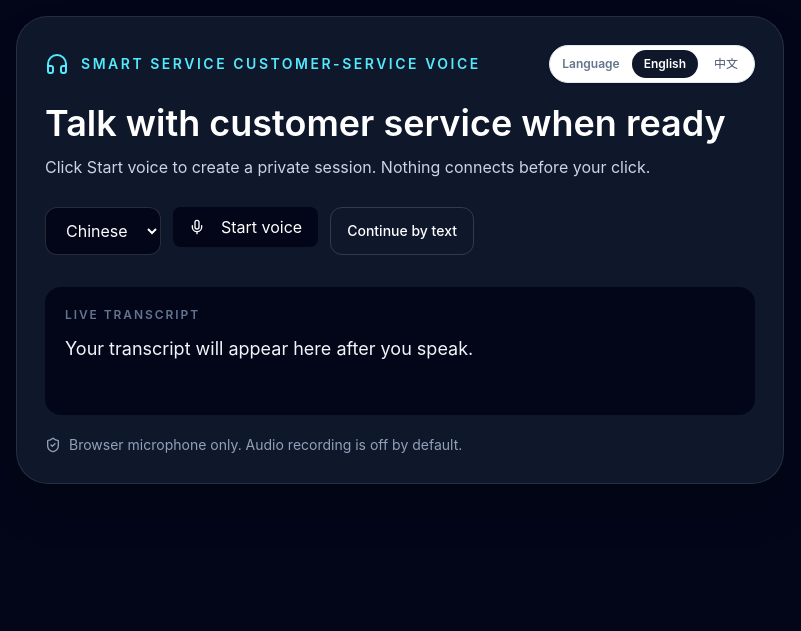
Test: VoiceExperience › offers a direct tap to enable reply audio when a mobile browser blocks autoplay
Click the button "Start voice" at (246, 227), box [173, 207, 318, 247]
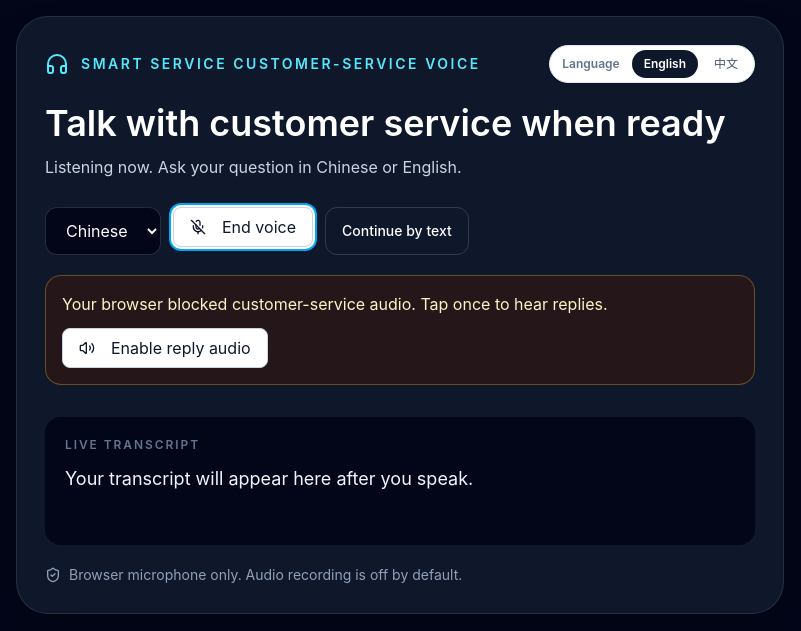
Check: the text "browser blocked customer-service audio" is shown, box [62, 294, 608, 314]
Click the button "Enable reply audio" at (165, 348), box [62, 328, 268, 368]
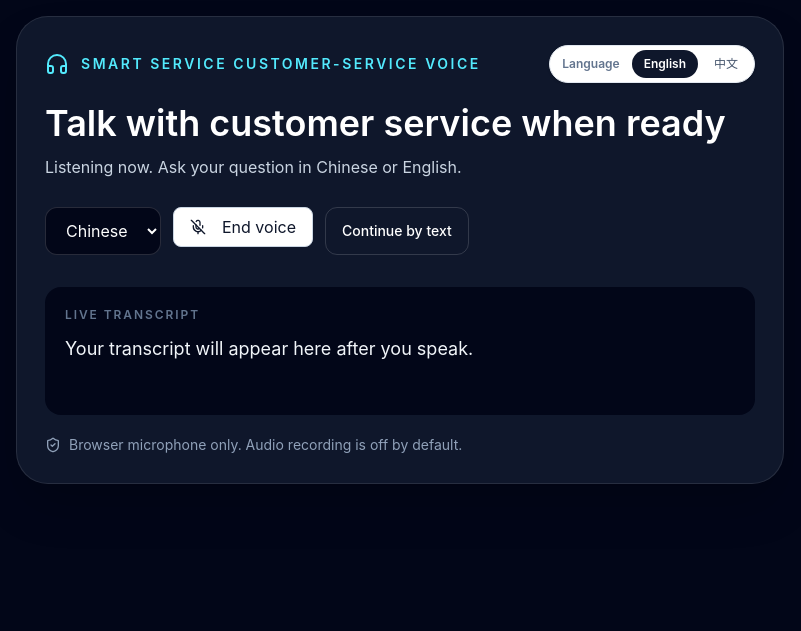
Check: the button "Enable reply audio" is gone
